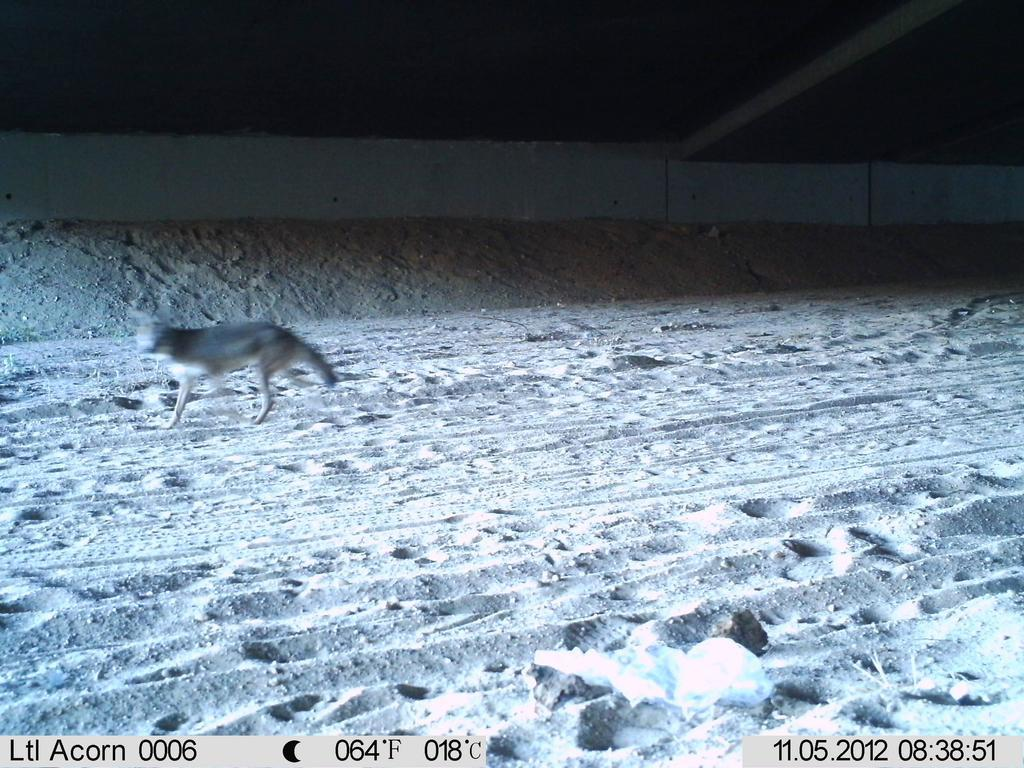coyote: (118, 305, 353, 431)
